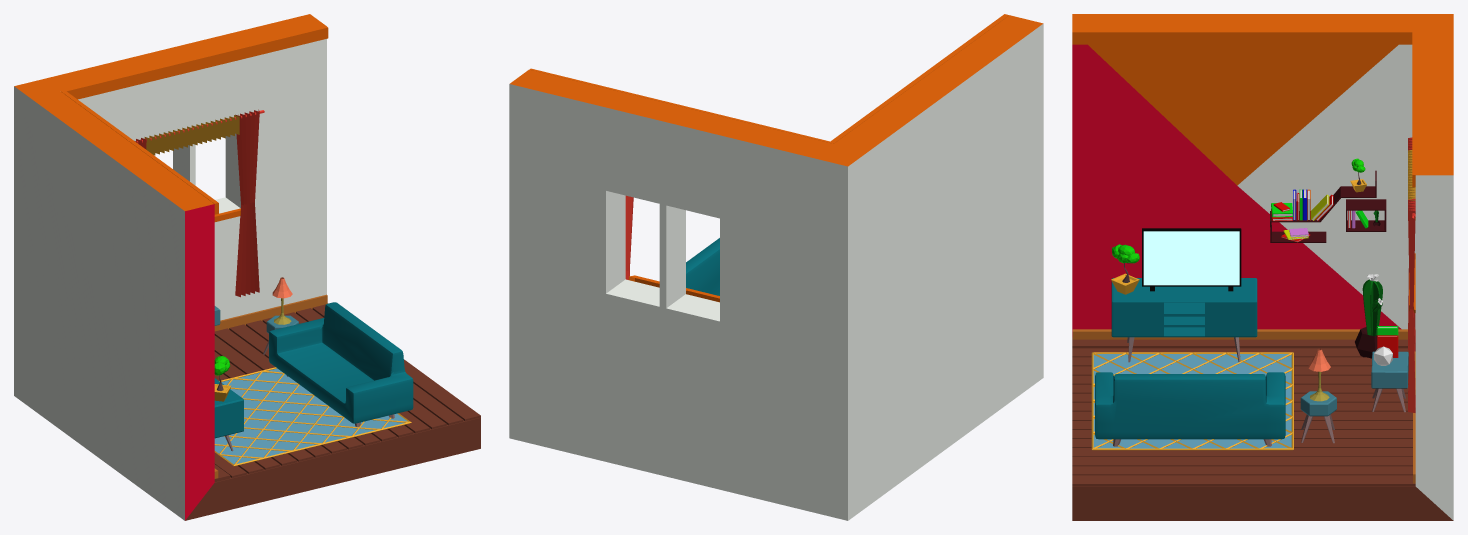
The model's file is Isometric_room.fbx.
3 renders of one model, left to right at view 1: azimuth 30°, elevation 25°; view 2: azimuth 150°, elevation 25°; view 3: azimuth 270°, elevation 25°, orthographic. The views are drawn at different scales.
Visible parts, largest first — view 1: paredes, fofa, tapete, Plane.011, Plane.002, rack; view 2: paredes, fofa; view 3: paredes, fofa, rack, tv, tapete, Plane.002, Estante, Plane.011, cacto, mesa, criado, jarro_1 (+1 smaller).
Part boxes in pixels (x1,y1,x2,y2): paredes: (14, 14, 480, 520); fofa: (269, 302, 413, 423); tapete: (214, 368, 407, 464); Plane.011: (135, 109, 264, 297); Plane.002: (214, 367, 411, 466); rack: (214, 378, 243, 451); paredes: (509, 14, 1043, 520); fofa: (686, 238, 719, 295); paredes: (1072, 14, 1453, 520); fofa: (1095, 372, 1285, 439); rack: (1111, 278, 1257, 362); tv: (1142, 228, 1241, 291); tapete: (1093, 354, 1291, 448); Plane.002: (1091, 352, 1293, 450); Estante: (1270, 170, 1386, 242); Plane.011: (1408, 137, 1415, 412); cacto: (1355, 274, 1382, 358); mesa: (1371, 351, 1408, 412); criado: (1300, 391, 1336, 443); jarro_1: (1111, 244, 1139, 294).
Size of what is drawn, in the model's own units: 100 by 100 by 100.
